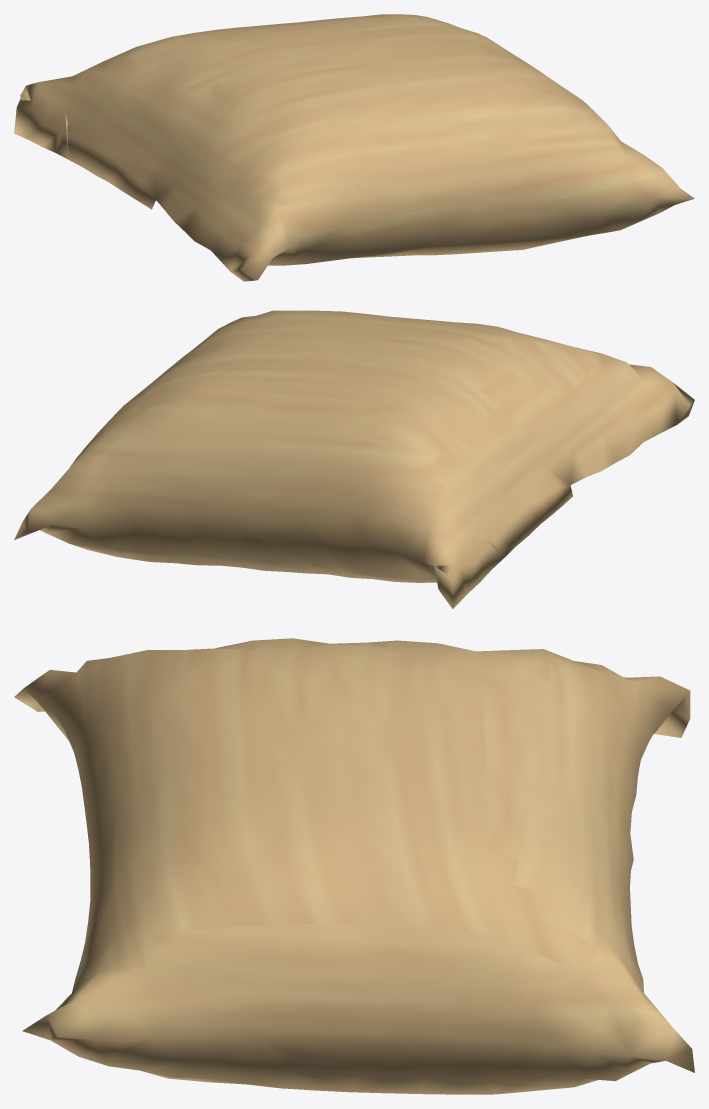
The model's file is cormhole_Blue_Beanbag_V5.fbx.
3 views of the same model, one above another, from view 1: azimuth 30°, elevation 25°; view 2: azimuth 150°, elevation 25°; view 3: azimuth 270°, elevation 25° (orthographic). The views are drawn at different scales.
Parts seen in each view (by area): view 1: Object_14; view 2: Object_14; view 3: Object_14.
Boxes of the visible parts, bbox=[...] form: Object_14: bbox=[14, 14, 694, 281]; Object_14: bbox=[14, 310, 694, 608]; Object_14: bbox=[14, 638, 694, 1094].
Bounding box in the file's own units: 18.23 × 7.57 × 17.48.
